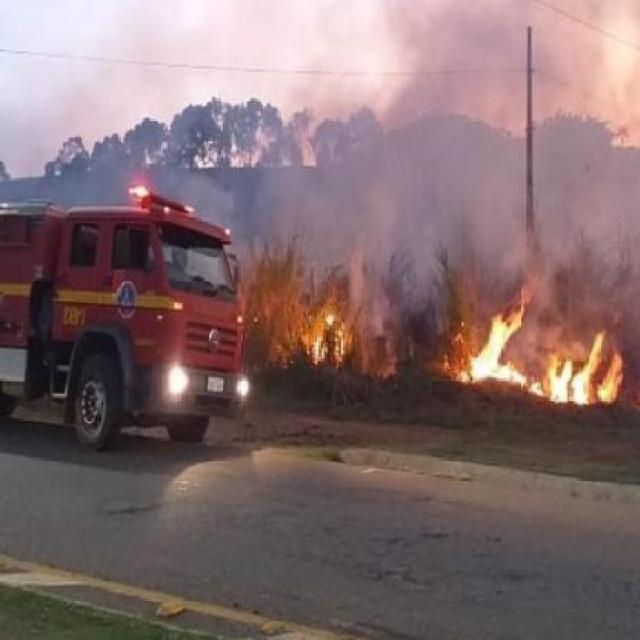Fire: (457, 298, 536, 389), (574, 334, 623, 403), (546, 349, 572, 406)
